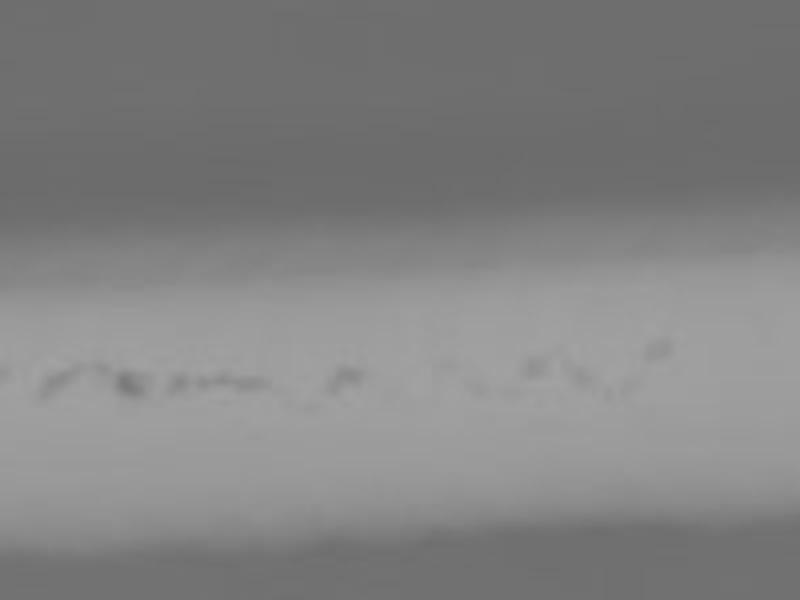defect: (117, 368, 154, 403), (641, 334, 671, 363), (42, 373, 72, 400), (522, 355, 551, 380), (562, 360, 589, 386), (234, 376, 271, 392), (169, 368, 188, 396), (337, 364, 362, 385), (214, 371, 232, 389), (325, 377, 340, 394), (195, 374, 209, 390)
